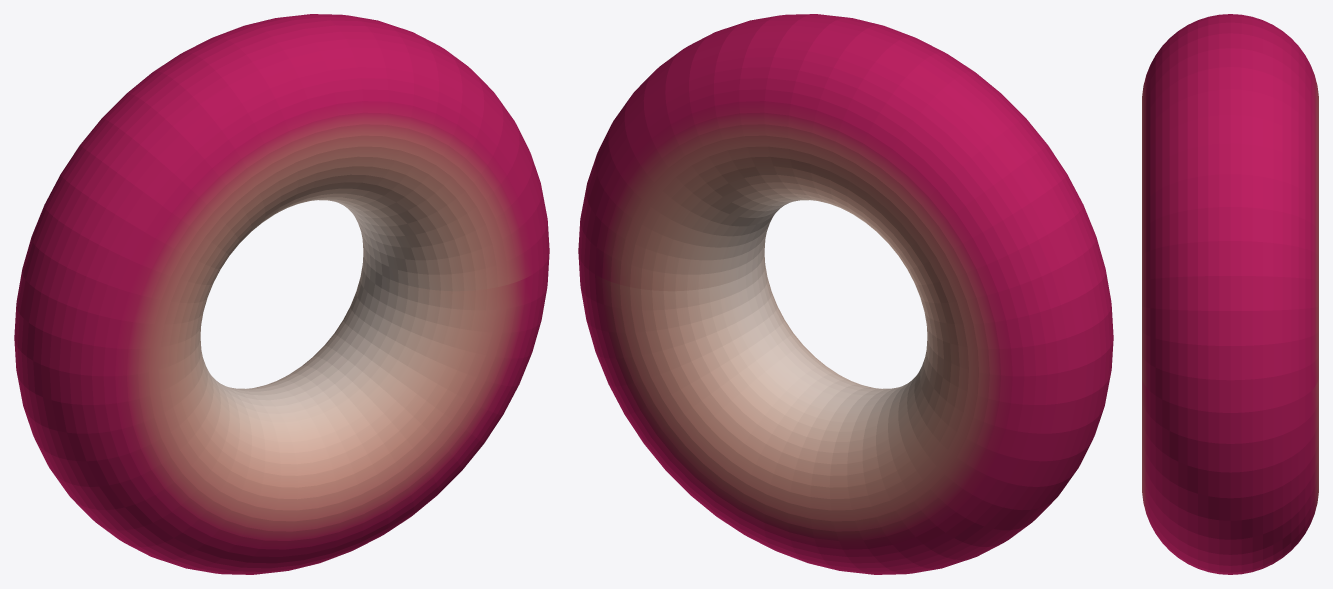
The picture shows the model from 3 angles, left to right: view 1: azimuth 30°, elevation 25°; view 2: azimuth 150°, elevation 25°; view 3: azimuth 270°, elevation 25°; orthographic projection. The views are drawn at different scales.
Parts seen in each view (by area): view 1: world; view 2: world; view 3: world.
Part boxes in pixels (x1,y1,x2,y2): world: (14,14,549,574); world: (578,14,1113,574); world: (1142,14,1318,574).
Size of the model in its own units: 28.27 by 28.21 by 8.92.
